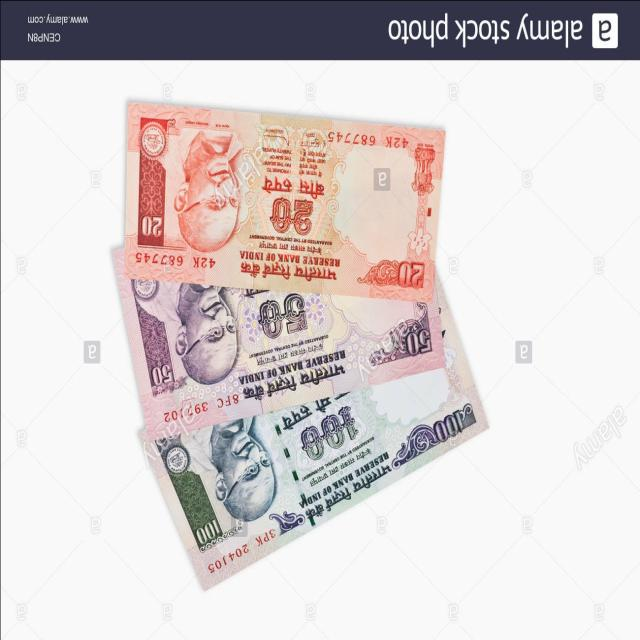20IndianRupees: (124, 100, 441, 316)
